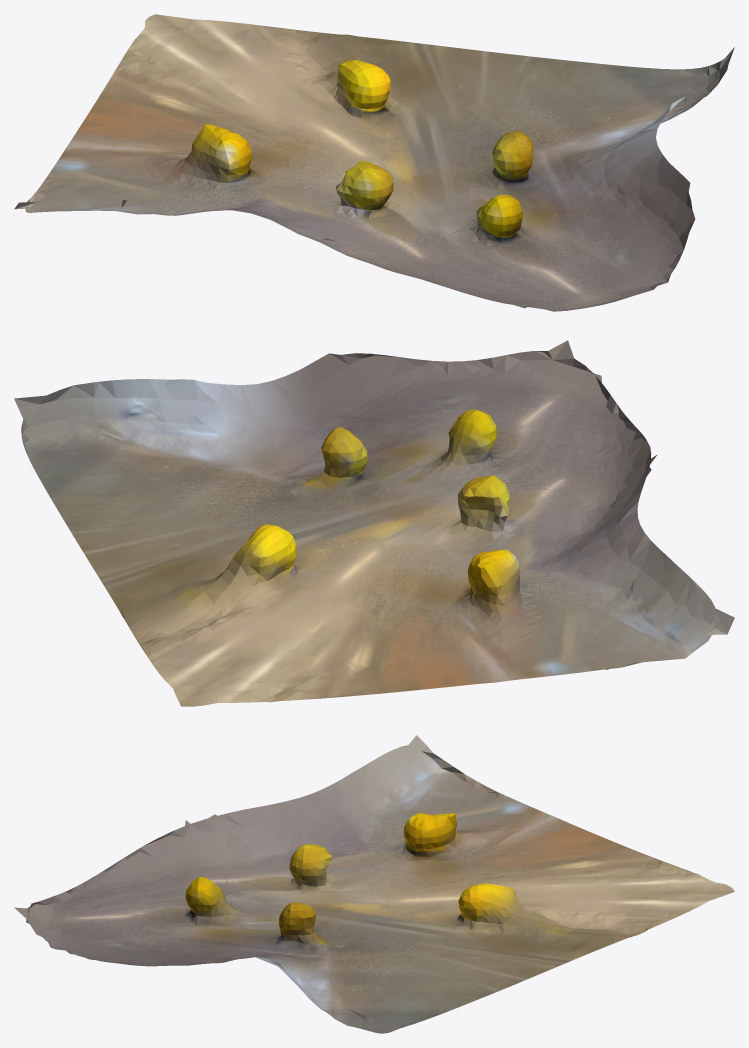
3 renders of one model, top to bottom at view 1: azimuth 30°, elevation 25°; view 2: azimuth 150°, elevation 25°; view 3: azimuth 270°, elevation 25°, orthographic. The views are drawn at different scales.
Bounding box in the file's own units: 2.4 × 0.1801 × 2.52.
1 material, 1 textured.
